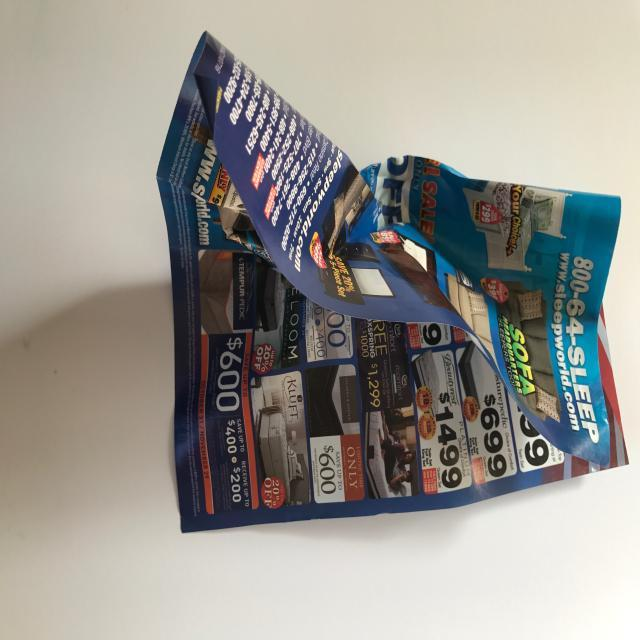paper: (155, 29, 630, 540)
